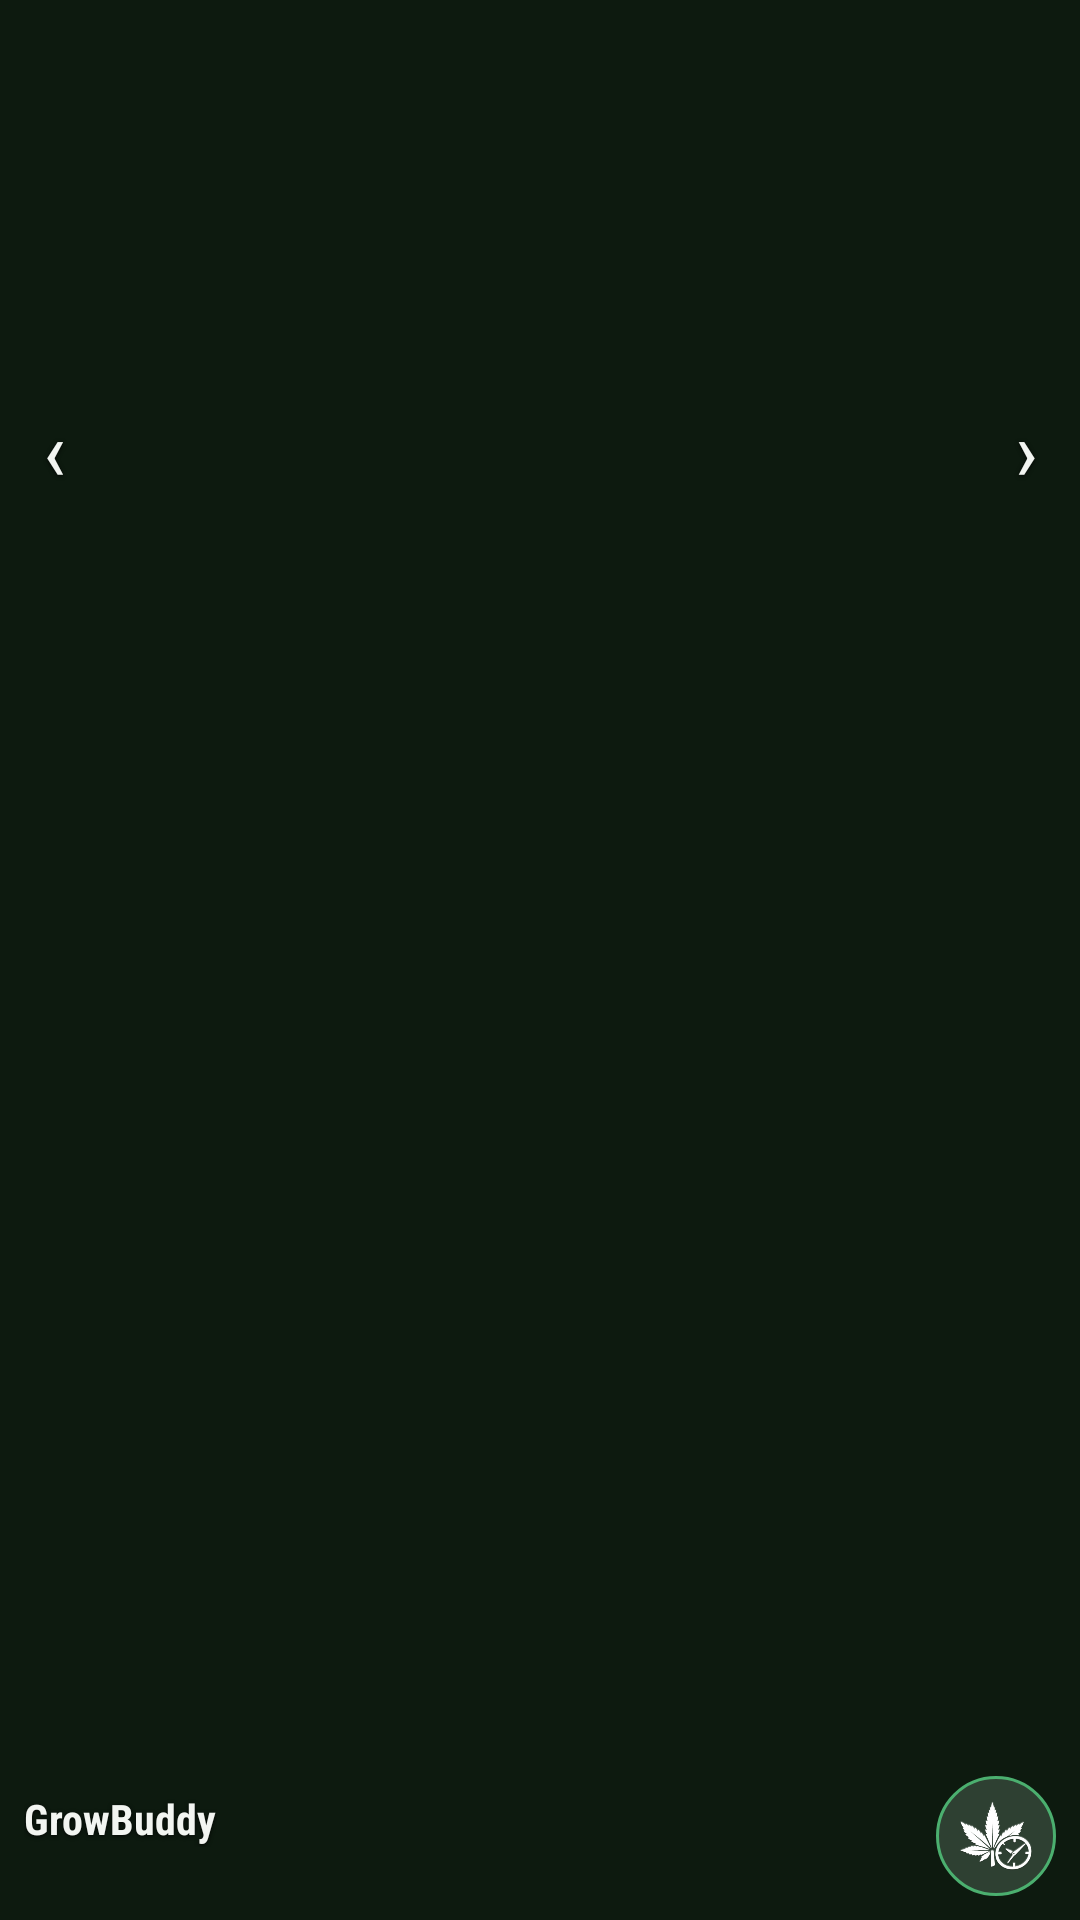

Screen size 1080px×1920px. Icon name, then its center in pixels as (x=x, y=y):
growlog: (x=996, y=1836)
